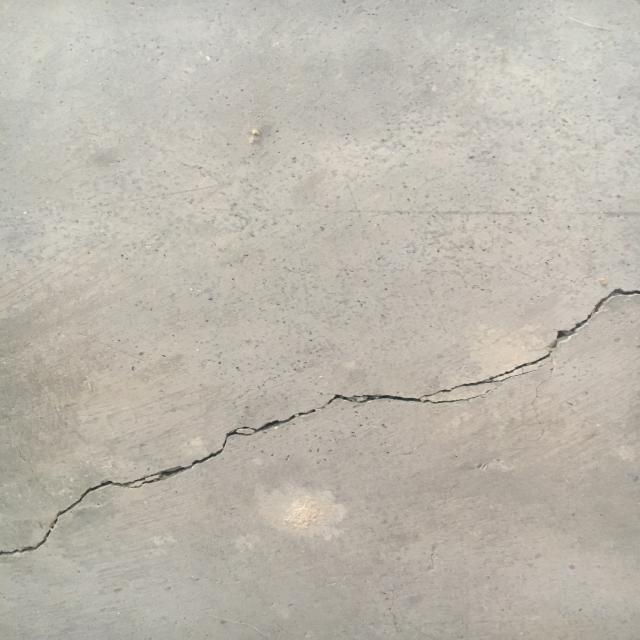Rachadura: (0, 284, 640, 562)
